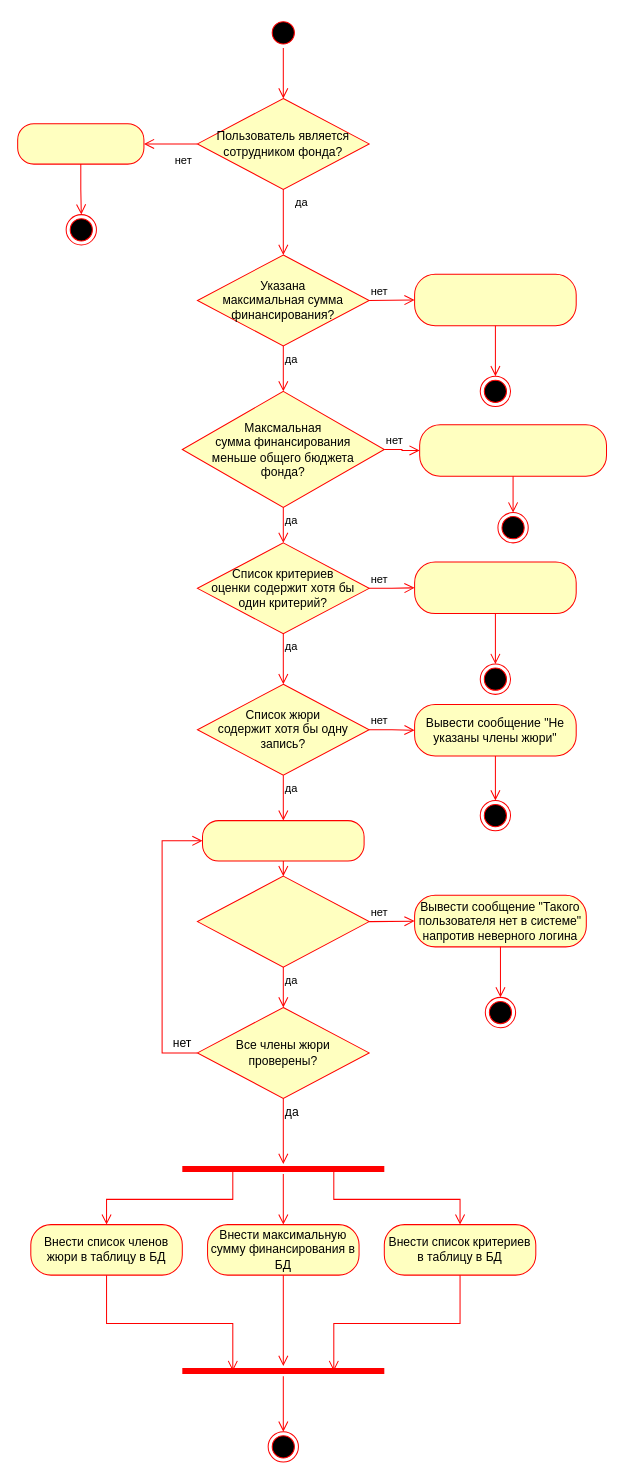
Some shapes in this 624 by 1480 pixel diagram are drawn without their labels. Each missing label, with the centre of its shape:
Вывести сообщение "Не указана максимальная сумма финансирования": (495,299)
Вывести сообщение "Не указаны критерии оценки": (495,587)
Вывести сообщение "Недопустимая максимальная сумма финансирования": (513,450)
Доступ к странице запрещен: (80,143)
Пользователь существует в системе?: (282,921)
Проверить, существует ли пользователь в системе: (282,840)
